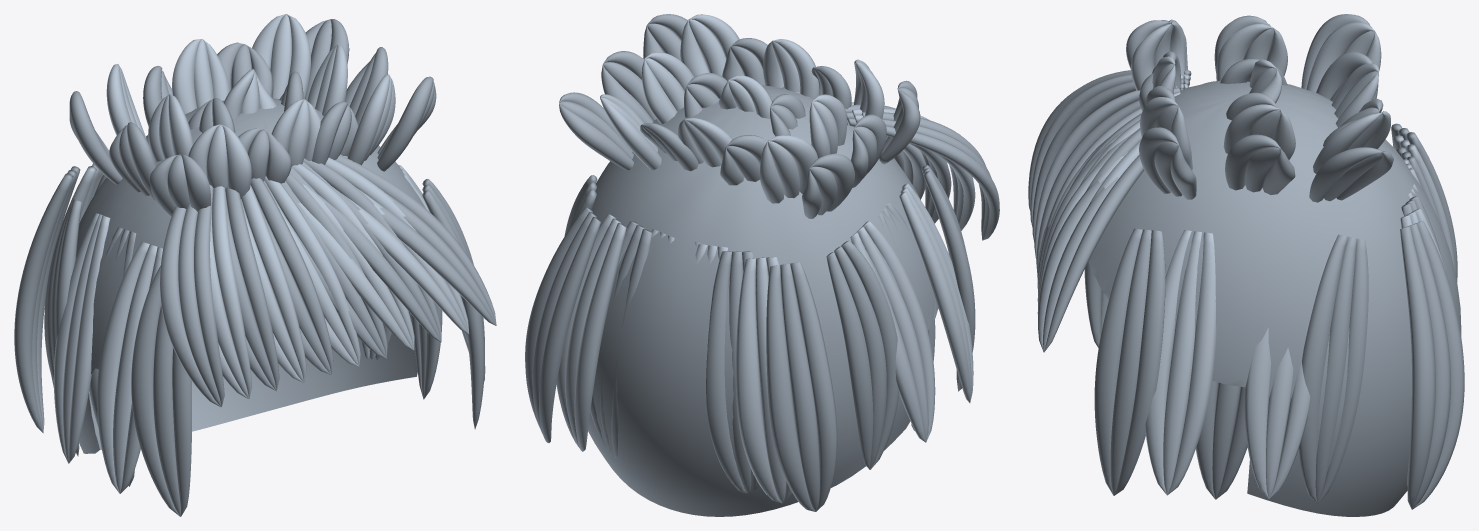
The picture shows the model from 3 angles, left to right: view 1: azimuth 30°, elevation 25°; view 2: azimuth 150°, elevation 25°; view 3: azimuth 270°, elevation 25°; orthographic projection. The views are drawn at different scales.
Parts seen in each view (by area): view 1: CrownHair_male_ref07, BackHair_00_Strand0, SideHair_-1_0_Strand2, SideHair_-1_1_Strand2, SideHair_-1_1_Strand1, FrontHair_Sweep_00_Strand2, SideHair_-1_0_Strand1, SideHair_-1_3_Strand0, FrontHair_Sweep_01_Strand0, FrontHair_Sweep_04_Strand0, FrontHair_Sweep_02_Strand0, FrontHair_Sweep_00_Strand0 (+69 smaller); view 2: CrownHair_male_ref07, BackHair_00_Strand2, BackHair_01_Strand2, BackHair_00_Strand1, BackHair_00_Strand0, BackHair_02_Strand2, BackHair_07_Strand0, BackHair_08_Strand0, SideHair_-1_4_Strand2, SideHair_-1_4_Strand1, SideHair_-1_1_Strand2, SideHair_-1_4_Strand0 (+59 smaller); view 3: CrownHair_male_ref07, BackHair_08_Strand2, SideHair_1_0_Strand0, SideHair_1_1_Strand0, SideHair_1_0_Strand2, SideHair_1_4_Strand2, SideHair_1_1_Strand1, SideHair_1_0_Strand1, SideHair_1_4_Strand1, SideHair_1_4_Strand0, BackHair_08_Strand1, BackHair_08_Strand0 (+53 smaller).
Boxes of the visible parts, box(x1,y1,x2,y2) form: CrownHair_male_ref07: box(76, 98, 425, 453); BackHair_00_Strand0: box(14, 173, 73, 432); SideHair_-1_0_Strand2: box(131, 265, 180, 516); SideHair_-1_1_Strand2: box(97, 241, 149, 493); SideHair_-1_1_Strand1: box(113, 244, 157, 493); FrontHair_Sweep_00_Strand2: box(160, 206, 221, 407); SideHair_-1_0_Strand1: box(153, 306, 180, 516); SideHair_-1_3_Strand0: box(68, 215, 110, 463); FrontHair_Sweep_01_Strand0: box(212, 186, 251, 398); FrontHair_Sweep_04_Strand0: box(250, 178, 333, 374); FrontHair_Sweep_02_Strand0: box(225, 185, 279, 390); FrontHair_Sweep_00_Strand0: box(194, 184, 224, 406); CrownHair_male_ref07: box(588, 85, 938, 516); BackHair_00_Strand2: box(766, 265, 815, 511); BackHair_01_Strand2: box(735, 258, 781, 503); BackHair_00_Strand1: box(780, 263, 819, 511); BackHair_00_Strand0: box(790, 262, 837, 511); BackHair_02_Strand2: box(706, 251, 746, 493); BackHair_07_Strand0: box(574, 223, 626, 451); BackHair_08_Strand0: box(539, 217, 600, 442); SideHair_-1_4_Strand2: box(826, 252, 873, 469); SideHair_-1_4_Strand1: box(834, 246, 886, 469); SideHair_-1_1_Strand2: box(899, 191, 970, 402); SideHair_-1_4_Strand0: box(841, 240, 899, 469); CrownHair_male_ref07: box(1088, 80, 1461, 516); BackHair_08_Strand2: box(1400, 226, 1435, 509); SideHair_1_0_Strand0: box(1114, 230, 1165, 495); SideHair_1_1_Strand0: box(1167, 232, 1216, 495); SideHair_1_0_Strand2: box(1094, 228, 1142, 495); SideHair_1_4_Strand2: box(1299, 234, 1347, 502); SideHair_1_1_Strand1: box(1163, 231, 1201, 494); SideHair_1_0_Strand1: box(1110, 229, 1151, 495); SideHair_1_4_Strand1: box(1315, 236, 1356, 502); SideHair_1_4_Strand0: box(1318, 238, 1368, 502); BackHair_08_Strand1: box(1407, 223, 1450, 509); BackHair_08_Strand0: box(1413, 221, 1464, 508).
Size of the model in its own units: 0.7792 by 0.8155 by 0.7401.
